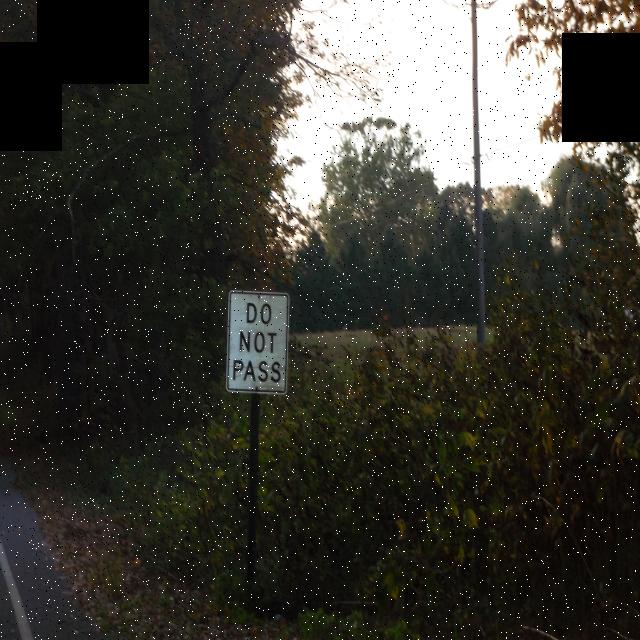regulatory: (222, 284, 291, 400)
